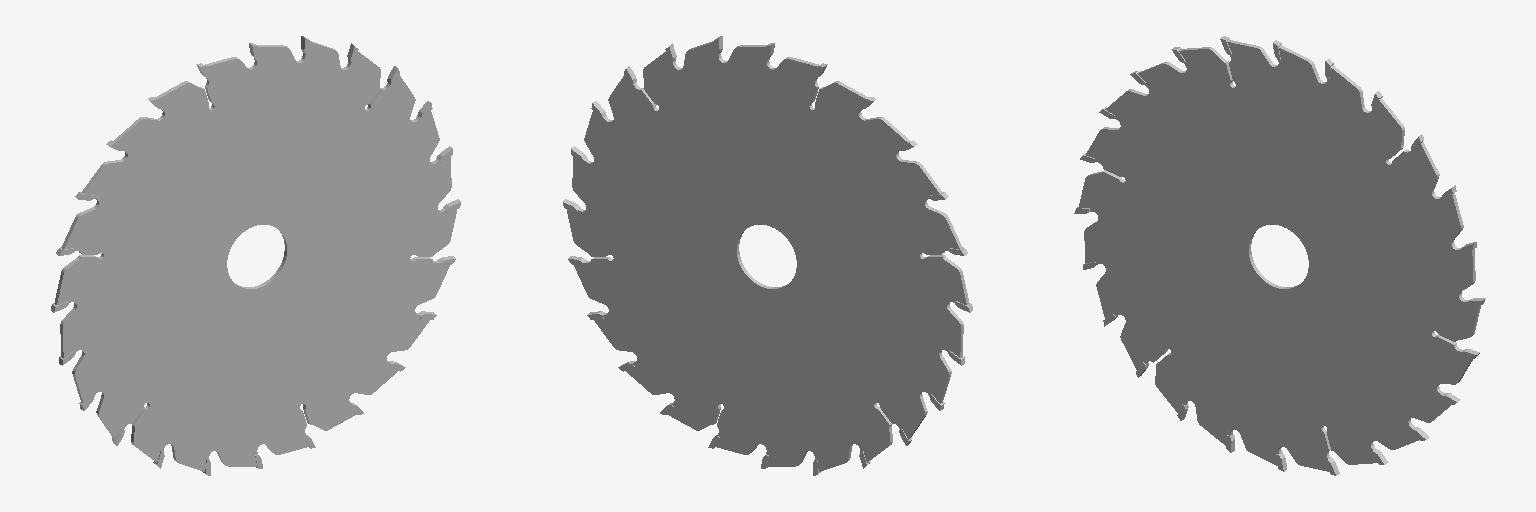
Rendered from Auto SAw.obj.
3 renders of one model, left to right at view 1: azimuth 30°, elevation 25°; view 2: azimuth 150°, elevation 25°; view 3: azimuth 330°, elevation 25°, orthographic.
Visible parts, largest first — view 1: Machine_saw; view 2: Machine_saw; view 3: Machine_saw.
Boxes of the visible parts, box(x1,y1,x2,y2) form: Machine_saw: box(51, 36, 460, 475); Machine_saw: box(563, 36, 972, 475); Machine_saw: box(1074, 36, 1485, 475).
Size of the model in its own units: 203 by 203 by 3.25.